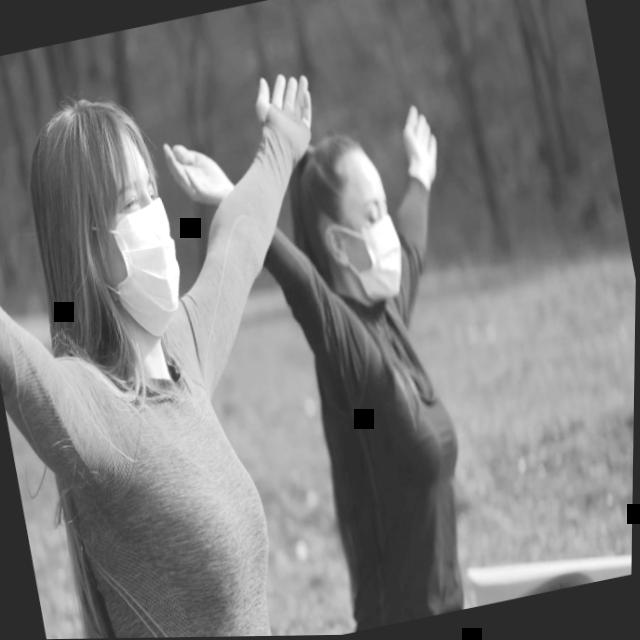Mask: (88, 155, 195, 348), (327, 157, 413, 311)
